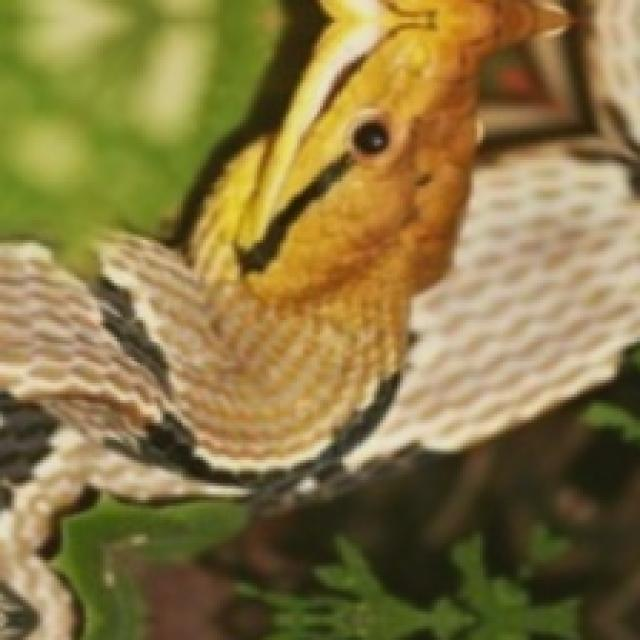dog-toothed cat snake: (0, 0, 563, 637)
